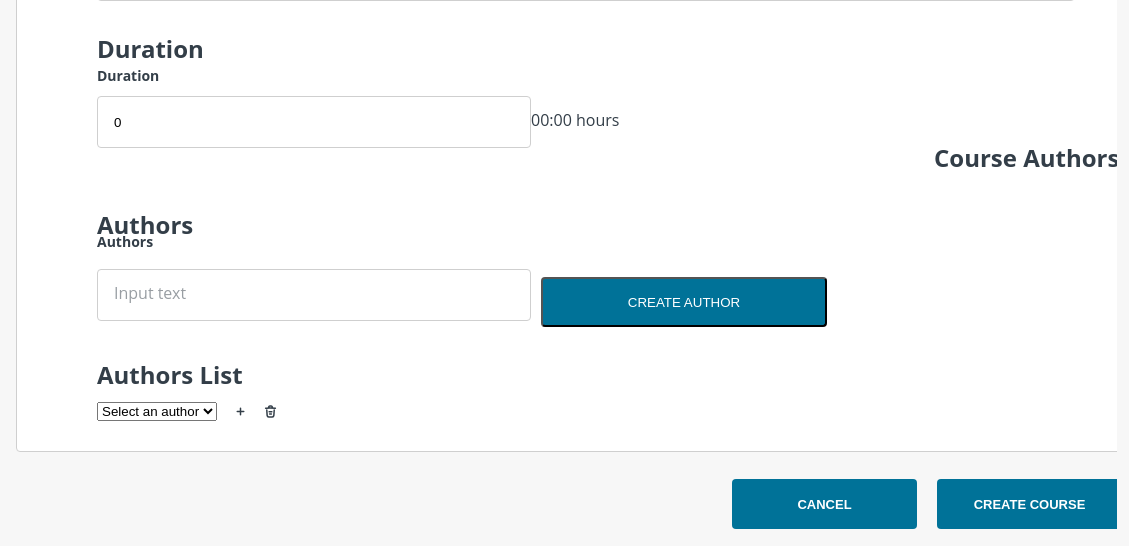
Test: CourseForm Component › 'Delete author' button click should delete an author from the course authors list.
(page scrolled)
// First, add an author to the course authors list
Step 1. Select "Author 1" in the dropdown with test id "authors-list" → (157,412), box [97,402,217,421]
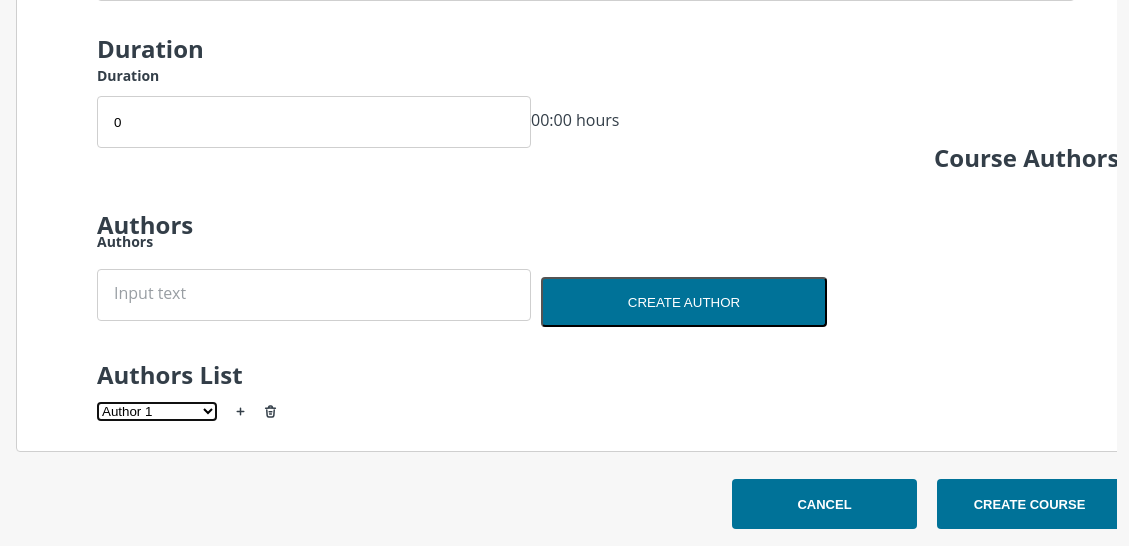
Step 2. Click the button with test id "add-author-button" → (244,411), box [224,386,264,436]
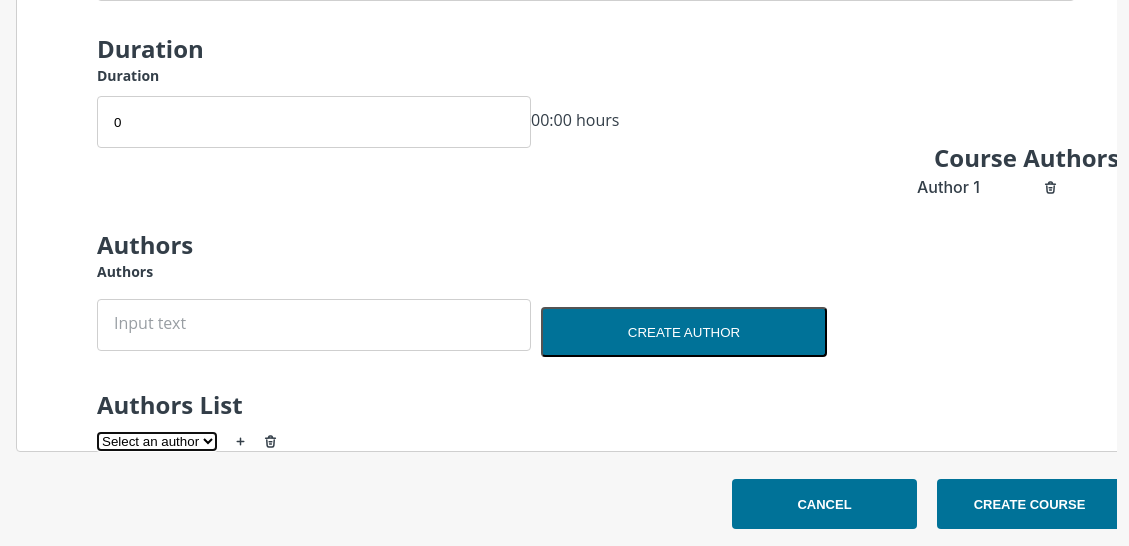
Check: the text "Author 1" is shown, box [917,177,980,197]
Step 3. Click the button with class "course-delete-author-button" → (1050,187), box [1044,180,1057,194]
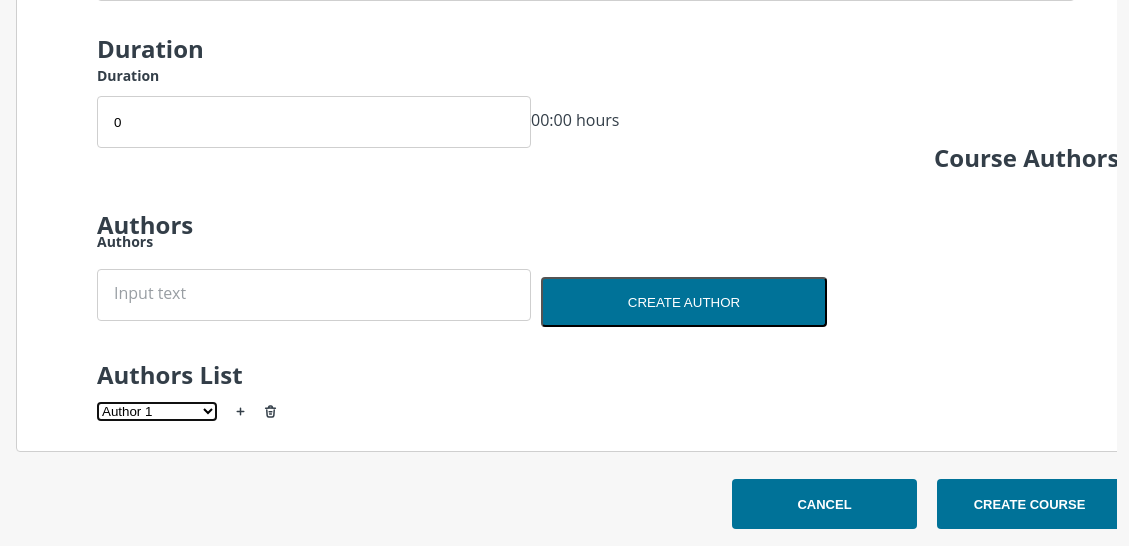
Check: the text with class "author-name" no longer shows "Author 1"
